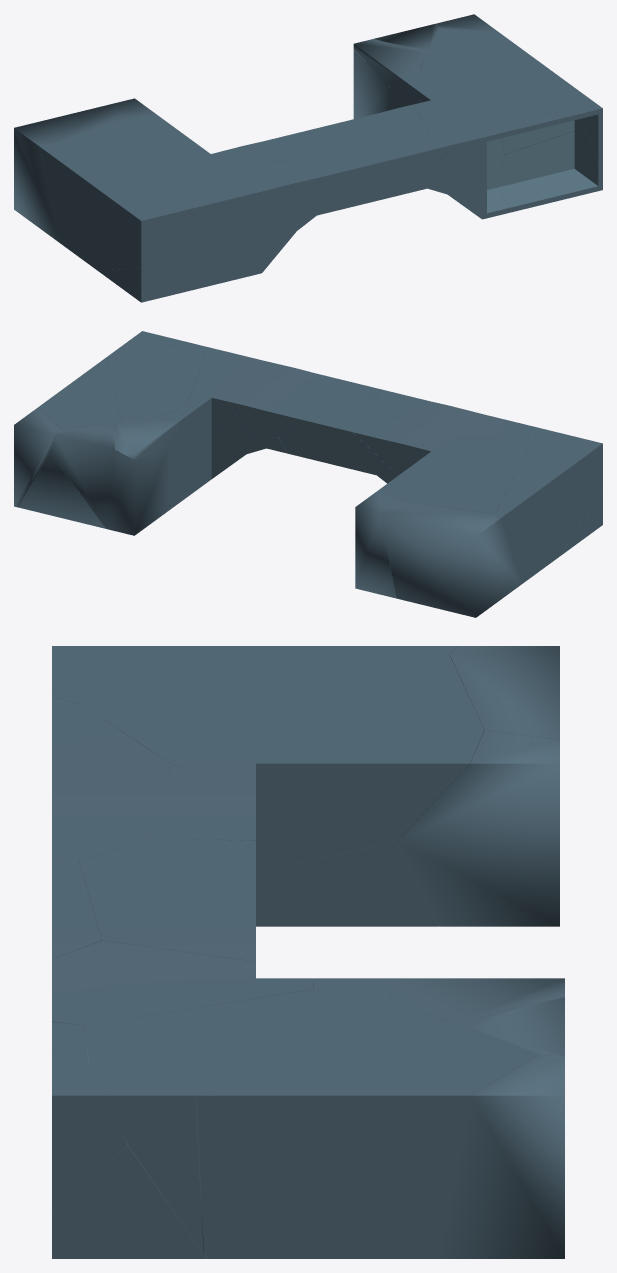
Rendered from TopShelf_DEST.fbx.
3 renders of one model, top to bottom at view 1: azimuth 30°, elevation 25°; view 2: azimuth 150°, elevation 25°; view 3: azimuth 270°, elevation 25°, orthographic. The views are drawn at different scales.
Parts seen in each view (by area): view 1: polySurface31_cell.023, polySurface31_cell.017, polySurface31_cell.005, polySurface31_cell.010, polySurface31_cell.012, polySurface31_cell.019, polySurface31_cell.003, polySurface31_cell.018, polySurface31_cell.020, polySurface31_cell.024, polySurface31_cell.016, polySurface31_cell.001 (+11 smaller); view 2: polySurface31_cell.018, polySurface31_cell.023, polySurface31_cell.016, polySurface31_cell.005, polySurface31_cell.012, polySurface31_cell.024, polySurface31_cell.003, polySurface31_cell.022, polySurface31_cell.011, polySurface31_cell.017, polySurface31_cell.020, polySurface31_cell (+8 smaller); view 3: polySurface31_cell.020, polySurface31_cell.005, polySurface31_cell.012, polySurface31_cell, polySurface31_cell.006, polySurface31_cell.023, polySurface31_cell.003, polySurface31_cell.017, polySurface31_cell.024, polySurface31_cell.004, polySurface31_cell.019, polySurface31_cell.018 (+8 smaller).
Boxes of the visible parts, x1,y1,x2,y2 form: polySurface31_cell.023: [39, 146, 193, 270]; polySurface31_cell.017: [193, 156, 362, 259]; polySurface31_cell.005: [50, 115, 232, 200]; polySurface31_cell.010: [139, 205, 272, 300]; polySurface31_cell.012: [419, 55, 588, 154]; polySurface31_cell.019: [497, 119, 602, 212]; polySurface31_cell.003: [414, 87, 526, 213]; polySurface31_cell.018: [14, 104, 118, 243]; polySurface31_cell.020: [427, 29, 566, 81]; polySurface31_cell.024: [335, 104, 430, 162]; polySurface31_cell.016: [353, 24, 439, 118]; polySurface31_cell.001: [436, 144, 503, 219]; polySurface31_cell.018: [380, 501, 522, 617]; polySurface31_cell.023: [495, 431, 602, 583]; polySurface31_cell.016: [50, 423, 170, 535]; polySurface31_cell.005: [378, 434, 535, 513]; polySurface31_cell.012: [106, 341, 205, 421]; polySurface31_cell.024: [228, 378, 376, 437]; polySurface31_cell.003: [186, 349, 287, 438]; polySurface31_cell.022: [279, 398, 397, 483]; polySurface31_cell.011: [158, 405, 251, 509]; polySurface31_cell.017: [376, 390, 545, 435]; polySurface31_cell.020: [38, 357, 121, 429]; polySurface31_cell: [355, 490, 408, 598]; polySurface31_cell.020: [196, 1020, 537, 1258]; polySurface31_cell.005: [82, 654, 484, 871]; polySurface31_cell.012: [84, 989, 444, 1253]; polySurface31_cell: [397, 730, 559, 926]; polySurface31_cell.006: [435, 1055, 564, 1258]; polySurface31_cell.023: [52, 646, 458, 704]; polySurface31_cell.003: [52, 940, 313, 1025]; polySurface31_cell.017: [52, 701, 172, 860]; polySurface31_cell.024: [79, 858, 255, 961]; polySurface31_cell.004: [256, 841, 438, 926]; polySurface31_cell.019: [52, 1144, 205, 1258]; polySurface31_cell.018: [449, 646, 559, 739].
Bounding box in the file's own units: 11.56 × 1.96 × 5.57.
